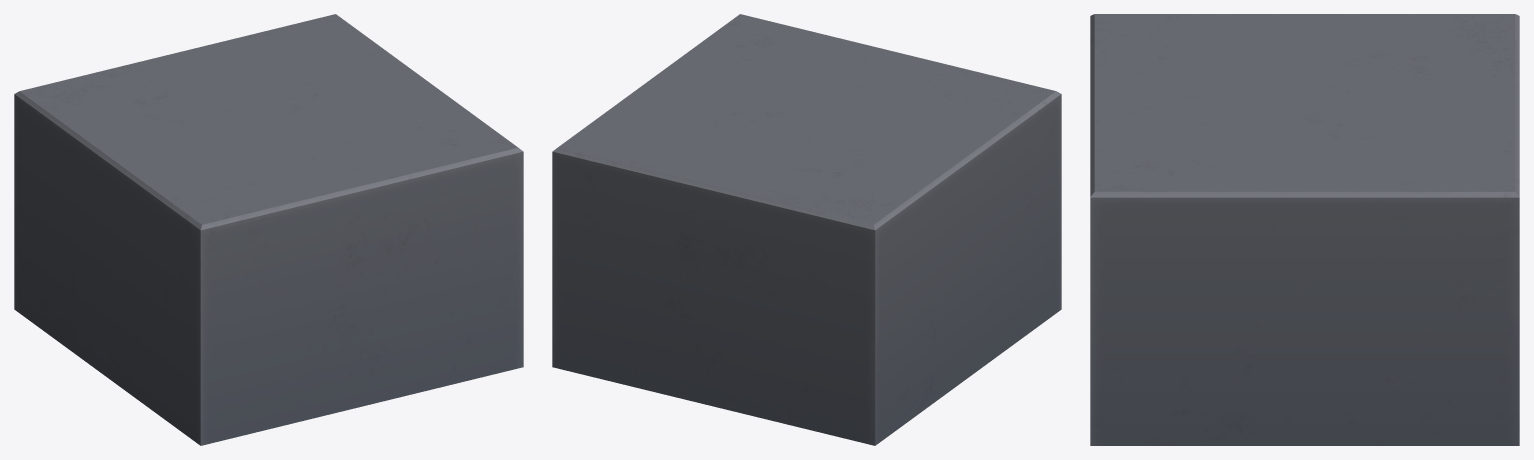
File: floor_iron04.fbx
The picture shows the model from 3 angles, left to right: view 1: azimuth 30°, elevation 25°; view 2: azimuth 150°, elevation 25°; view 3: azimuth 270°, elevation 25°; orthographic projection. The views are drawn at different scales.
Visible parts, largest first — view 1: floor_iron04; view 2: floor_iron04; view 3: floor_iron04.
Boxes of the visible parts, x1=… form: floor_iron04: x1=14, y1=14, x2=523, y2=445; floor_iron04: x1=552, y1=14, x2=1061, y2=445; floor_iron04: x1=1090, y1=14, x2=1519, y2=445.
Size of the model in its own units: 100 by 64.82 by 100.
Materials: 1 (1 with a texture image).
